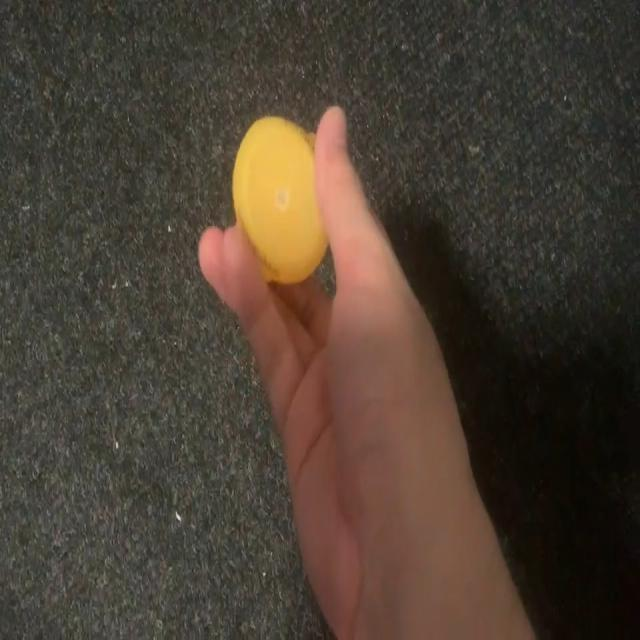rubber-duck: (232, 116, 325, 282)
